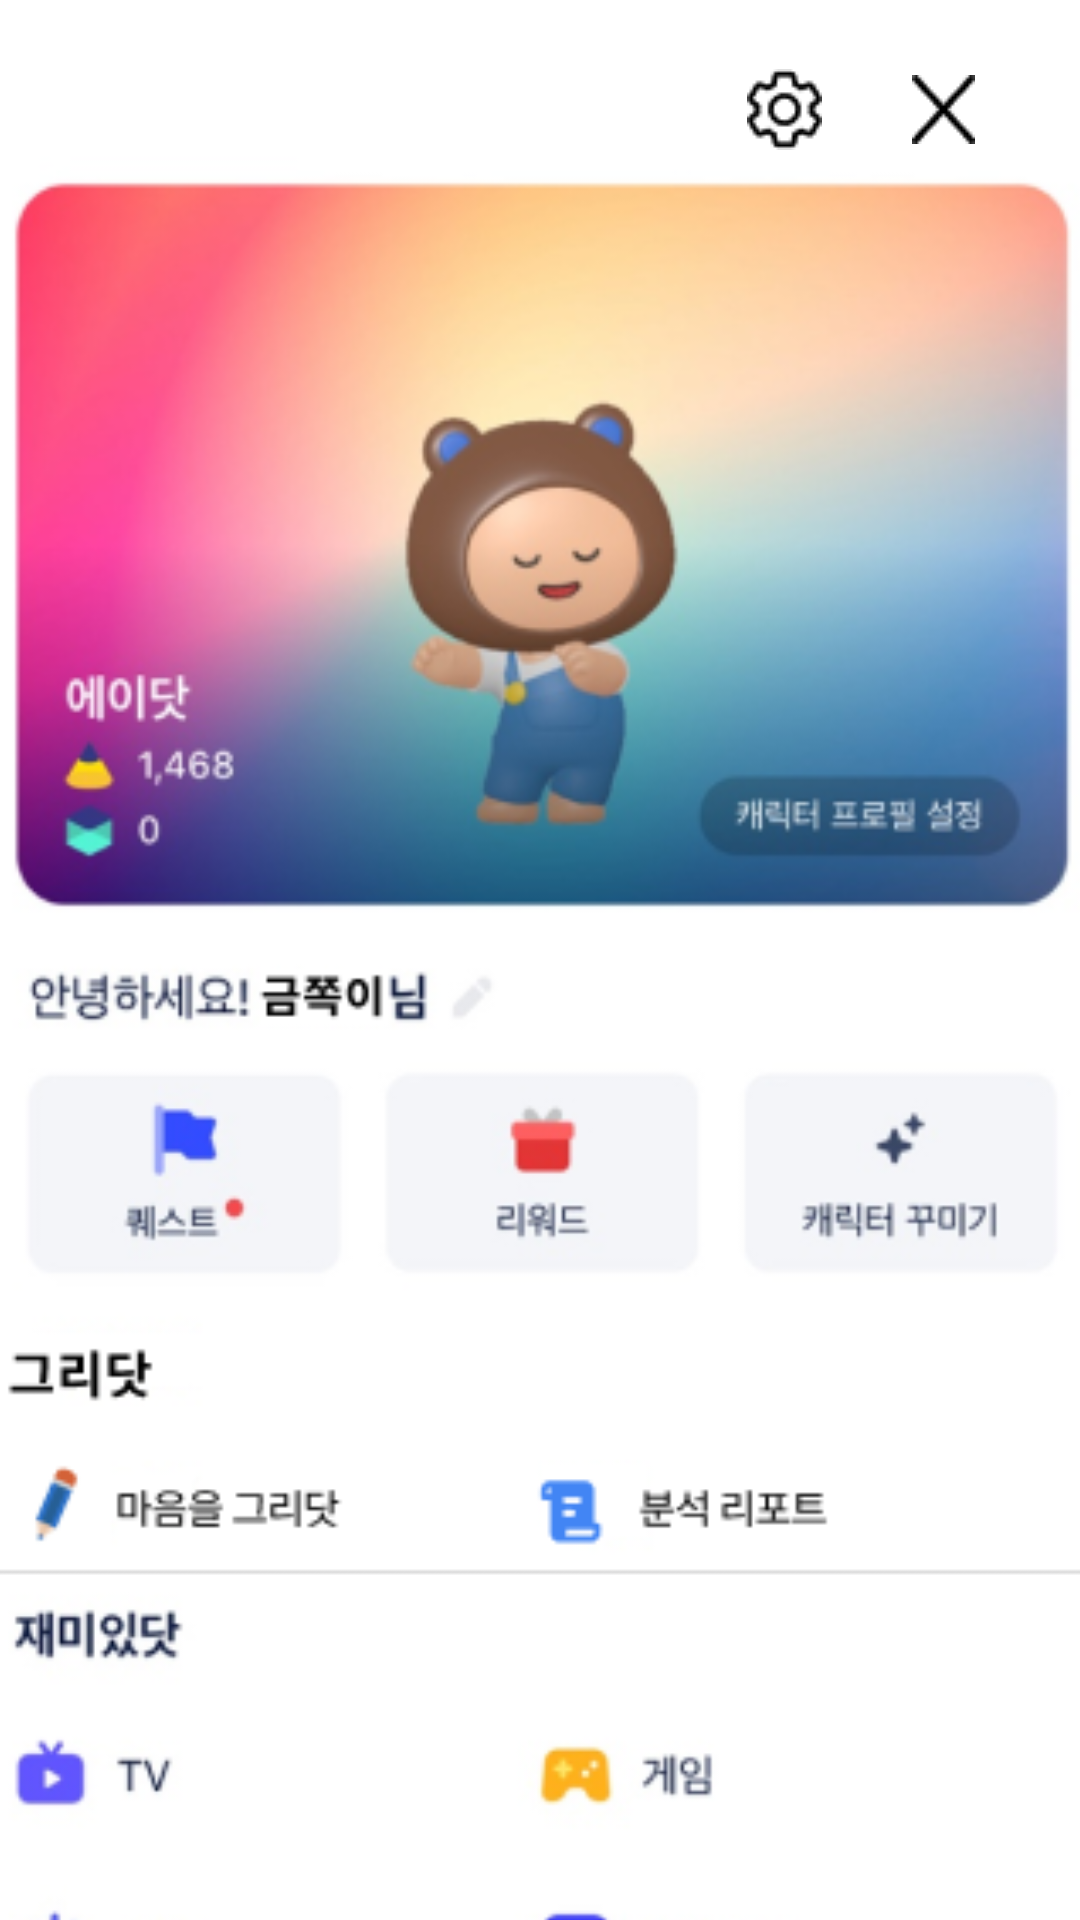

Screen size 1080x1920. Icon name, then its box in pixels as (x1=x1, y1=y1, x2=x2, y2=y2):
exit: (x1=912, y1=75, x2=975, y2=144)
setting: (x1=747, y1=69, x2=822, y2=150)
